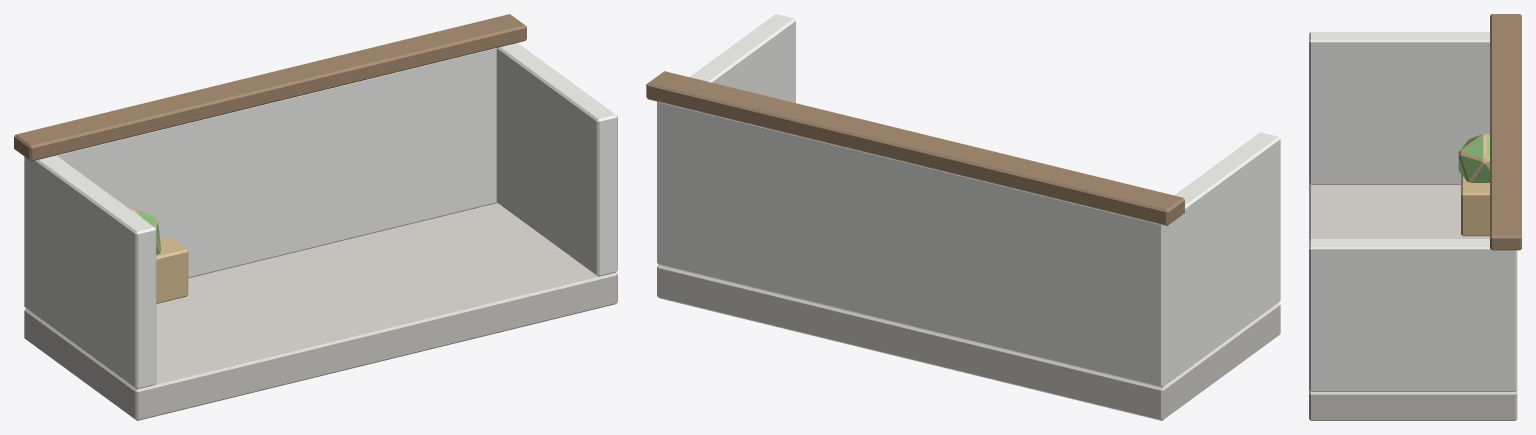
The picture shows the model from 3 angles, left to right: view 1: azimuth 30°, elevation 25°; view 2: azimuth 150°, elevation 25°; view 3: azimuth 270°, elevation 25°; orthographic projection. The views are drawn at different scales.
Visible parts, largest first — view 1: 底板.004, 栏板, 侧栏板, 扶手.002, 花箱; view 2: 栏板, 侧栏板, 底板.004, 扶手.002; view 3: 侧栏板, 底板.004, 扶手.002, 花箱, 栏板.
Part boxes in pixels (box(x1,y1,x2,y2)): 底板.004: box(24, 203, 617, 420); 栏板: box(24, 48, 496, 297); 侧栏板: box(24, 43, 617, 389); 扶手.002: box(14, 14, 526, 161); 花箱: box(129, 208, 188, 303); 栏板: box(658, 102, 1171, 386); 侧栏板: box(657, 14, 1280, 387); 底板.004: box(657, 265, 1280, 420); 扶手.002: box(646, 71, 1184, 225); 侧栏板: box(1309, 32, 1517, 391); 底板.004: box(1309, 183, 1517, 420); 扶手.002: box(1490, 14, 1521, 250); 花箱: box(1458, 133, 1489, 236); 栏板: box(1496, 250, 1515, 391).
Size of the model in its own units: 330 by 130 by 133.
